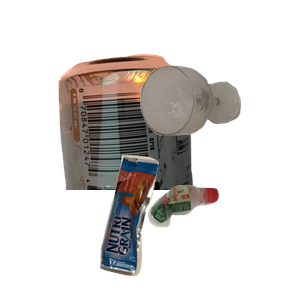glass: (138, 63, 300, 191)
metal: (56, 52, 242, 232)
plastic: (146, 182, 300, 300)
trash: (97, 152, 248, 300)
